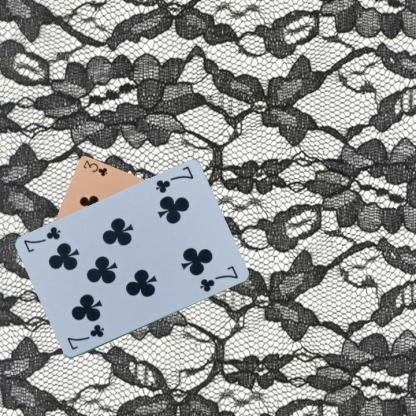7c: (152, 164, 194, 195), (64, 322, 105, 352)
